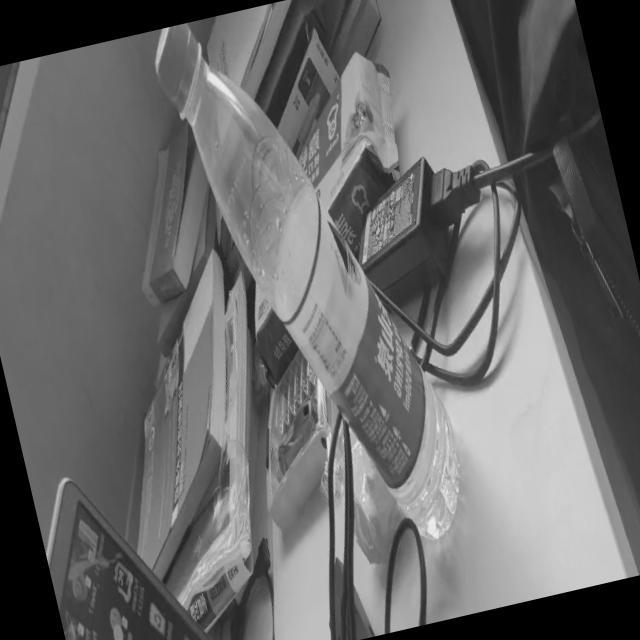good: (145, 0, 475, 583)
